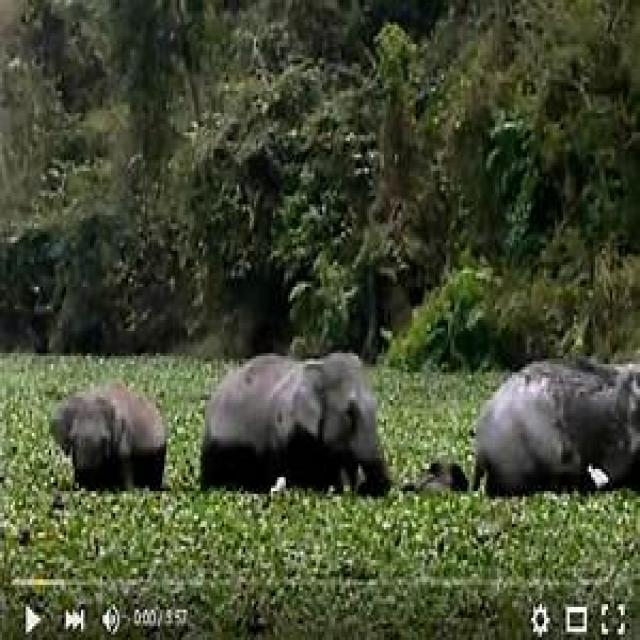elephant: (198, 353, 395, 499), (474, 356, 640, 502), (49, 383, 166, 491)
